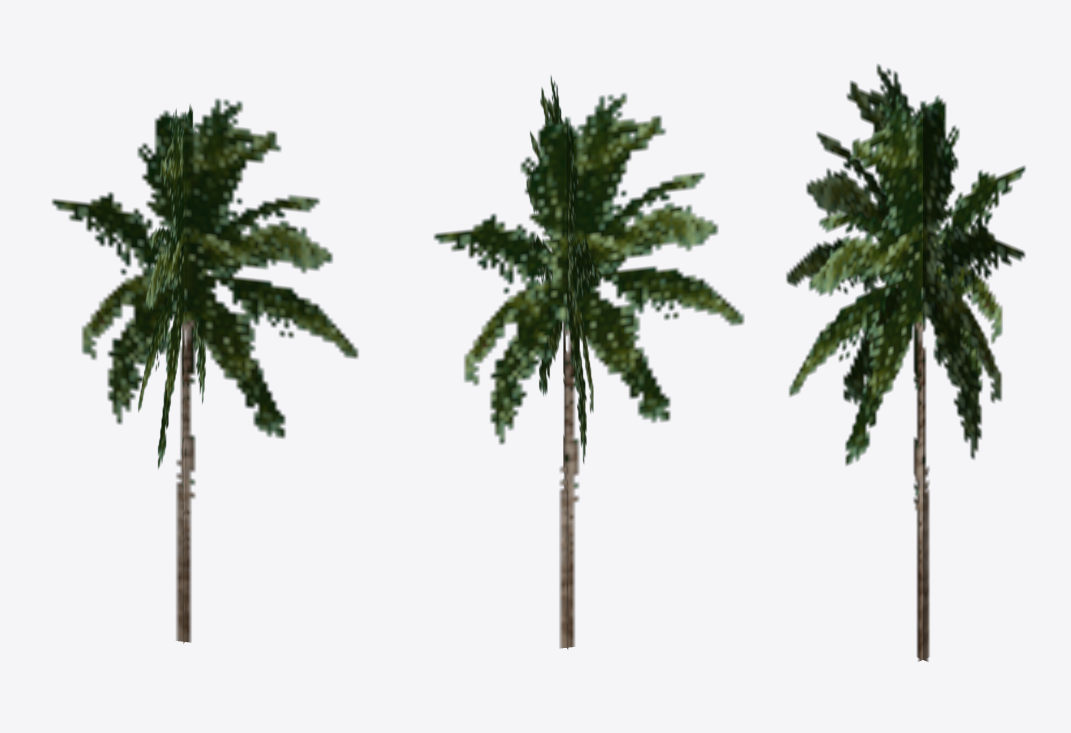
File: tree035.glb
3 renders of one model, left to right at view 1: azimuth 30°, elevation 25°; view 2: azimuth 150°, elevation 25°; view 3: azimuth 270°, elevation 25°, orthographic. The views are drawn at different scales.
Visible parts, largest first — view 1: tree035; view 2: tree035; view 3: tree035.
Boxes of the visible parts, <box> form: tree035: <box>52,98,358,643</box>; tree035: <box>433,75,744,649</box>; tree035: <box>786,64,1025,661</box>.
Bounding box in the file's own units: 2.2 × 5.09 × 2.14.
1 material, 1 textured.
